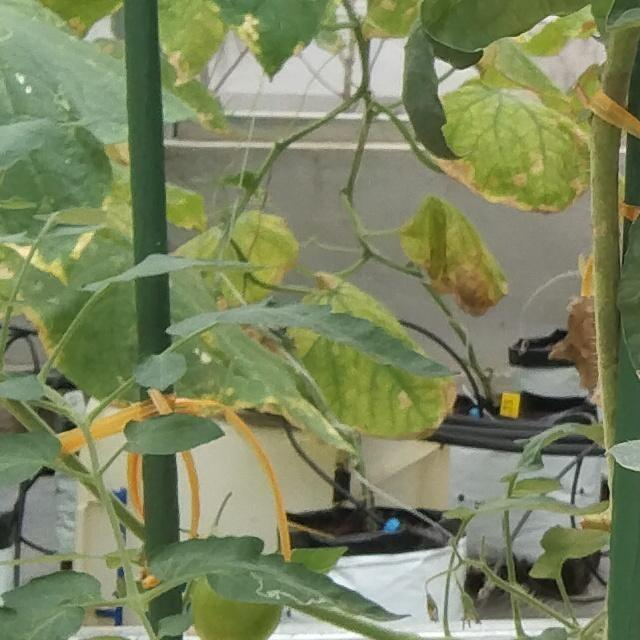Healthy: (122, 406, 225, 457)
Leaf_Miner: (147, 534, 412, 625)
